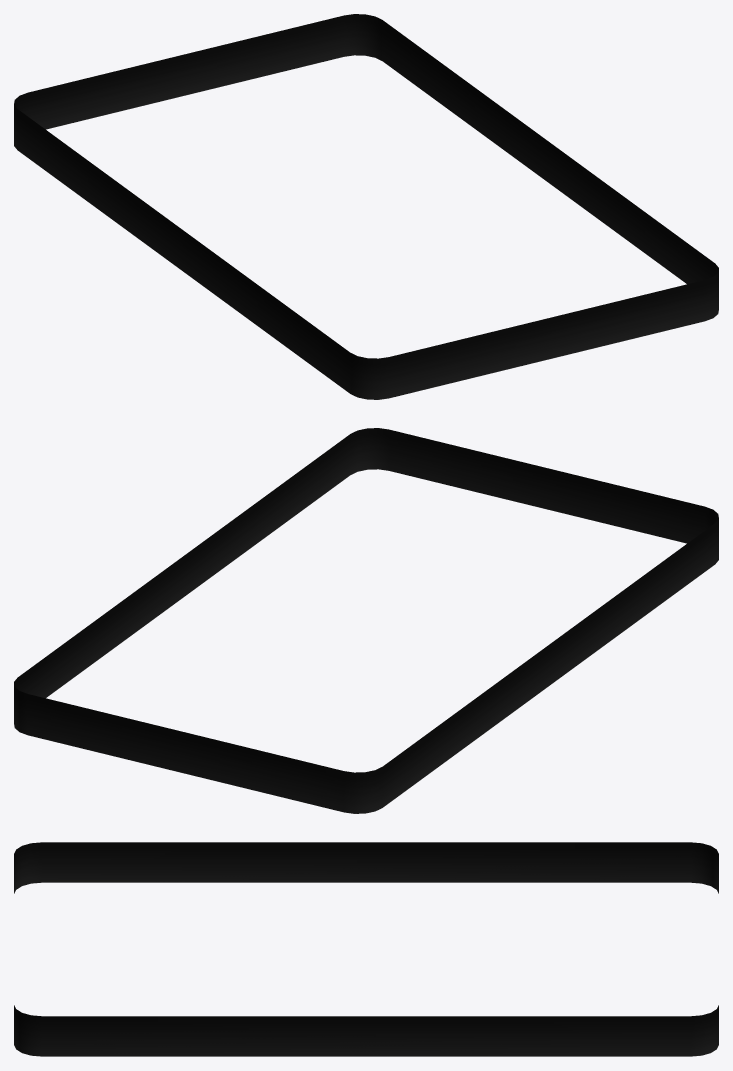
File: Holo_Border_02.FBX
3 renders of one model, top to bottom at view 1: azimuth 30°, elevation 25°; view 2: azimuth 150°, elevation 25°; view 3: azimuth 270°, elevation 25°, orthographic. The views are drawn at different scales.
Visible parts, largest first — view 1: Holo_Border_02; view 2: Holo_Border_02; view 3: Holo_Border_02.
Boxes of the visible parts, x1,y1,x2,y2 form: Holo_Border_02: (14,14,718,399); Holo_Border_02: (14,428,718,813); Holo_Border_02: (14,842,718,1056).
Bounding box in the file's own units: 3.5 × 0.3795 × 6.
1 material, 1 textured.
